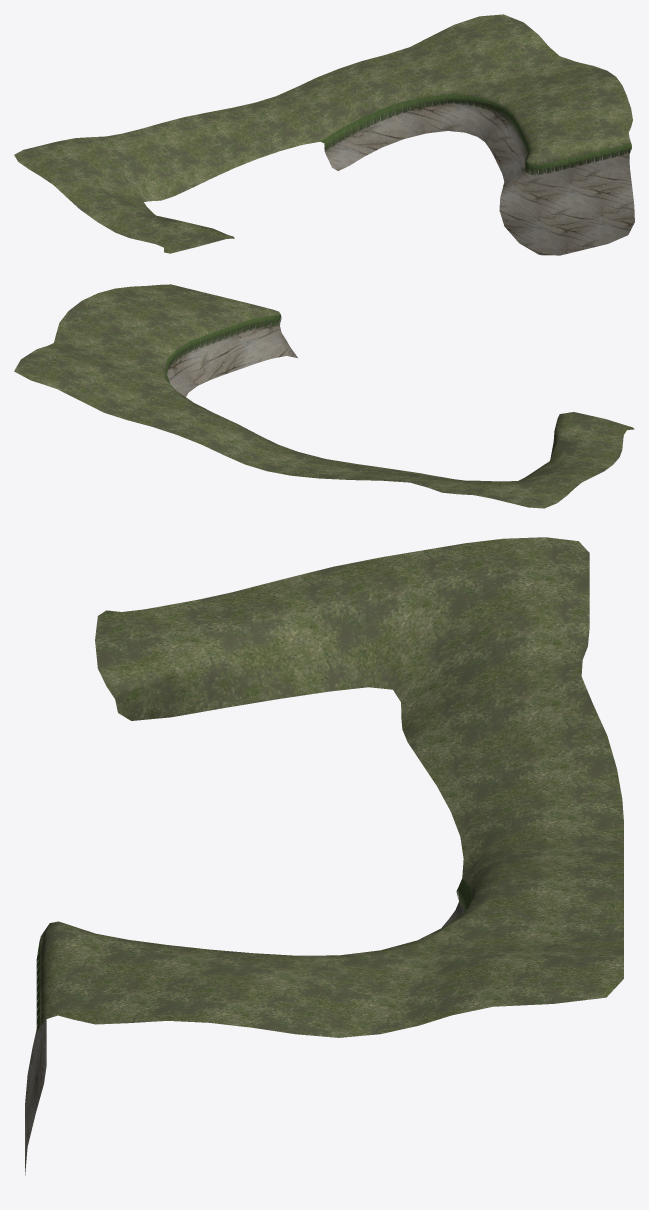
Rendered from bigTerrainChunk.glb.
The picture shows the model from 3 angles, top to bottom: view 1: azimuth 30°, elevation 25°; view 2: azimuth 150°, elevation 25°; view 3: azimuth 270°, elevation 25°; orthographic projection. The views are drawn at different scales.
Visible parts, largest first — view 1: racetrack_grass.jpg__, rock_grey.jpg__, racetrack_blend.png__; view 2: racetrack_grass.jpg__, rock_grey.jpg__, racetrack_blend.png__; view 3: racetrack_grass.jpg__, rock_grey.jpg__.
Part boxes in pixels (left/top/right/bottom): racetrack_grass.jpg__: left=14, top=14, right=632, bottom=253; rock_grey.jpg__: left=324, top=99, right=634, bottom=255; racetrack_blend.png__: left=320, top=94, right=631, bottom=175; racetrack_grass.jpg__: left=14, top=284, right=634, bottom=508; rock_grey.jpg__: left=166, top=321, right=297, bottom=396; racetrack_blend.png__: left=164, top=314, right=281, bottom=383; racetrack_grass.jpg__: left=39, top=537, right=623, bottom=1037; rock_grey.jpg__: left=25, top=891, right=465, bottom=1175.
Size of the model in its own units: 463 by 95.17 by 228.
3 materials, 3 textured.
